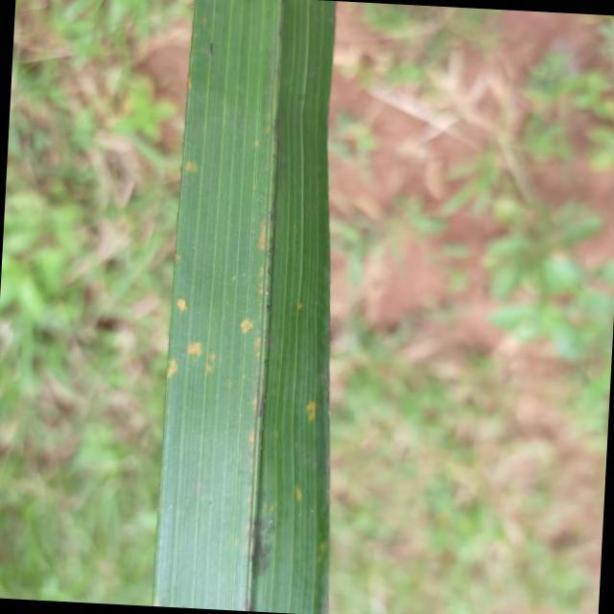Kalium: (155, 0, 342, 614)
